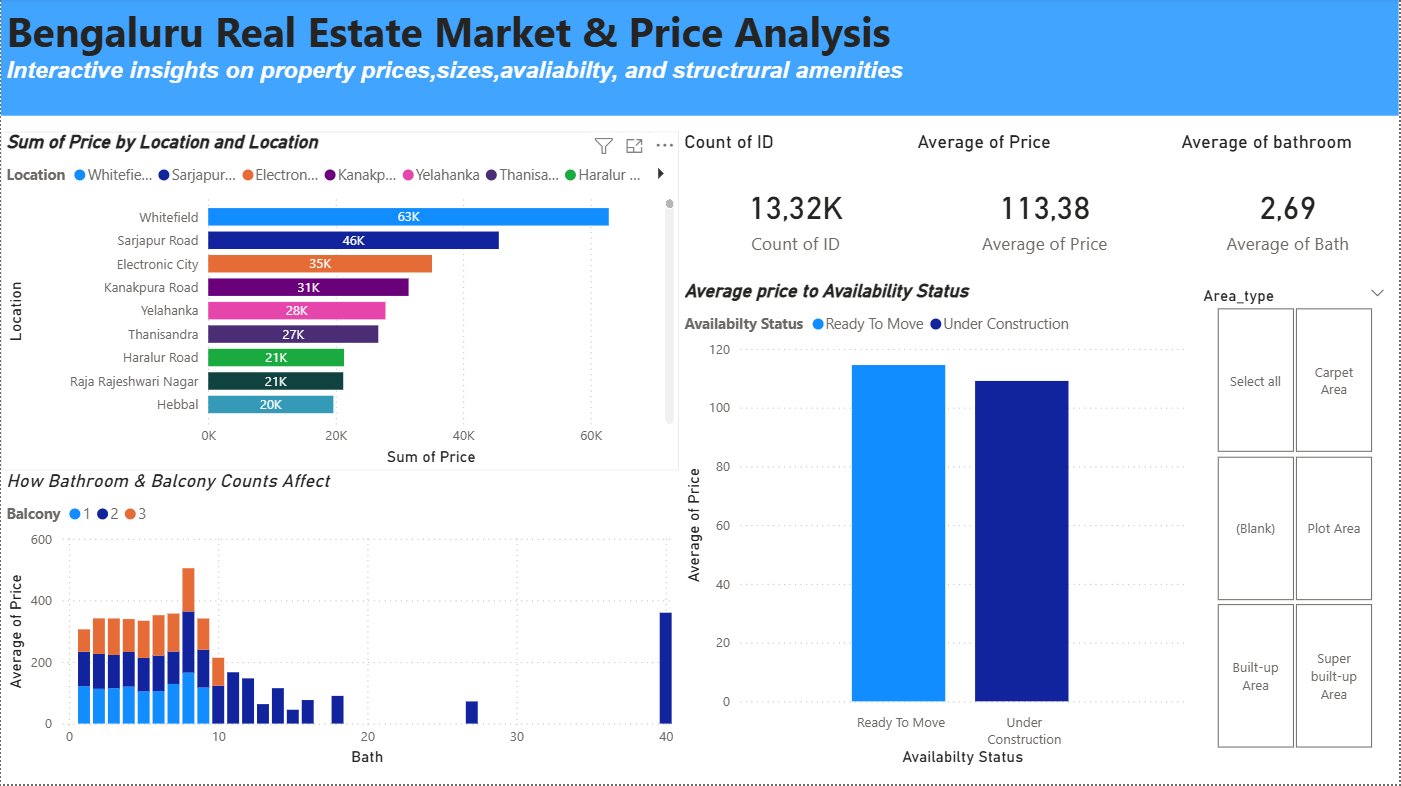

The page's visual inventory and layout, read from the dashboard file:
{"tool":"powerbi","page":{"name":"Page 1","canvas":[1280,720],"ordinal":0},"visuals":[{"type":"barChart","fields":{"Y":["Sum(1 ish Bengaluru_House_Data(Auto.Price)"],"Category":["1 ish Bengaluru_House_Data(Auto.Location"],"Series":["1 ish Bengaluru_House_Data(Auto.Location"]},"box":[0,122.8,620.8,309.8],"z":0},{"type":"columnChart","title":"How Bathroom & Balcony Counts Affect","fields":{"Category":["1 ish Bengaluru_House_Data(Auto.Bath"],"Y":["Avg(1 ish Bengaluru_House_Data(Auto.Price)"],"Series":["1 ish Bengaluru_House_Data(Auto.Balcony"]},"box":[0,432.6,620.8,274.9],"z":1000},{"type":"columnChart","title":"Average price to Availability Status","fields":{"Category":["1 ish Bengaluru_House_Data(Auto.Availabilty Status","1 ish Bengaluru_House_Data(Auto.Availability"],"Y":["Avg(1 ish Bengaluru_House_Data(Auto.Price)"],"Series":["1 ish Bengaluru_House_Data(Auto.Availabilty Status"]},"box":[620.8,259.1,467.5,448.4],"z":2000},{"type":"card","title":"Count of ID","fields":{"Values":["CountNonNull(1 ish Bengaluru_House_Data(Auto.ID)"]},"box":[620.8,122.8,212.9,136.3],"z":3000},{"type":"card","title":"Average of Price","fields":{"Values":["Avg(1 ish Bengaluru_House_Data(Auto.Price)"]},"box":[833.7,122.8,242.2,136.3],"z":4000},{"type":"card","title":"Average of bathroom","fields":{"Values":["Avg(1 ish Bengaluru_House_Data(Auto.Bath)"]},"box":[1075.7,122.3,204.2,136.5],"z":5000},{"type":"textbox","box":[0,0,1279.8,108.2],"z":6000},{"type":"slicer","fields":{"Values":["1 ish Bengaluru_House_Data(Auto.Area_type"]},"box":[1088.3,259.1,191.5,434.9],"z":7000}]}

Visuals, with their boxes in screenshot pixels (x1, y1, x2, y2), scaled from the page's 1280x720 canvas onto the 1401x786 screenshot:
barChart - Sum(1 ish Bengaluru_House_Data(Auto.Price) x 1 ish Bengaluru_House_Data(Auto.Location: box(0, 134, 679, 472)
"How Bathroom & Balcony Counts Affect" columnChart: box(0, 472, 679, 772)
"Average price to Availability Status" columnChart: box(679, 283, 1191, 772)
"Count of ID" card: box(679, 134, 913, 283)
"Average of Price" card: box(913, 134, 1178, 283)
"Average of bathroom" card: box(1177, 134, 1400, 283)
textbox: box(0, 0, 1400, 118)
slicer - 1 ish Bengaluru_House_Data(Auto.Area_type: box(1191, 283, 1400, 758)
